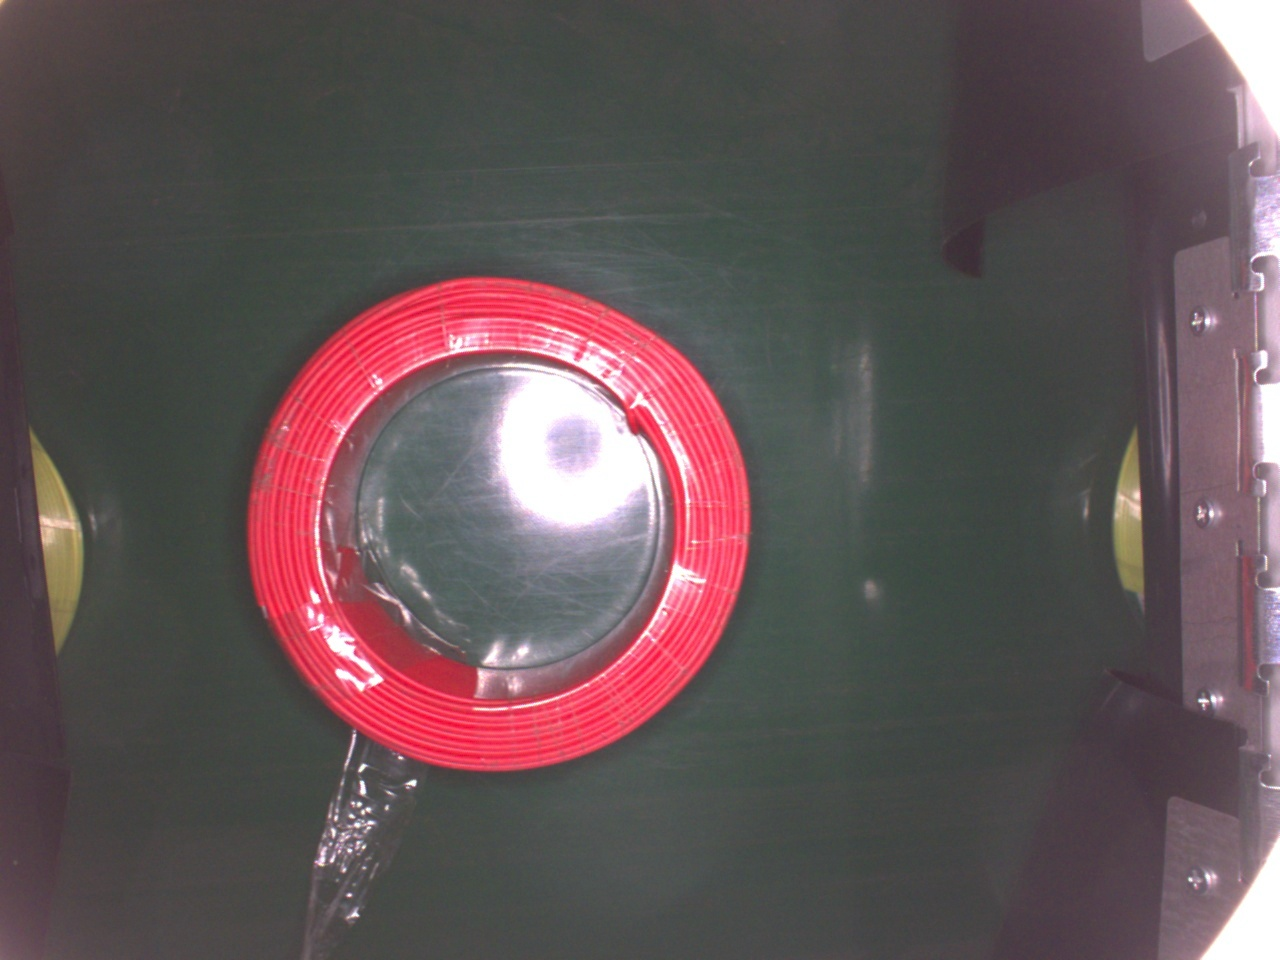red: (244, 273, 752, 774)
